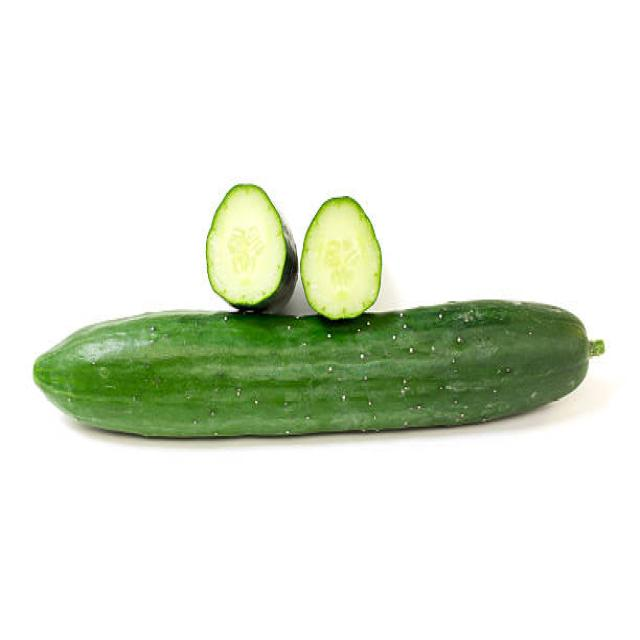cucumber: (35, 297, 588, 438)
